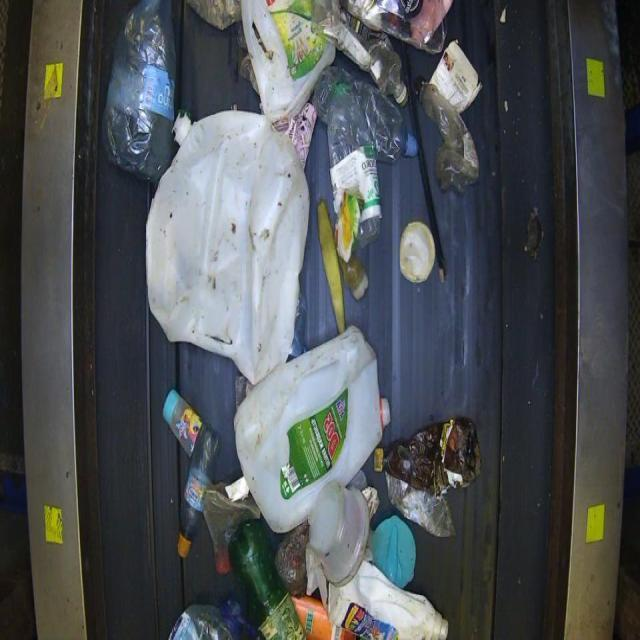cups: (232, 324, 385, 534)
other-trash: (102, 0, 485, 638)
